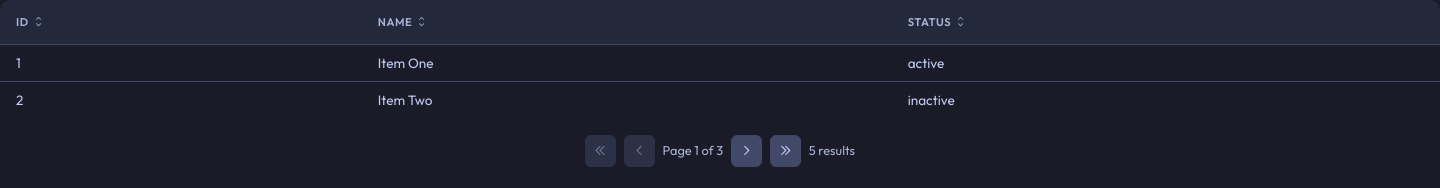
Test: DataTable › pagination › navigates to previous page
Step 1. Click the button named "next" → (746, 151), box [731,135,762,167]
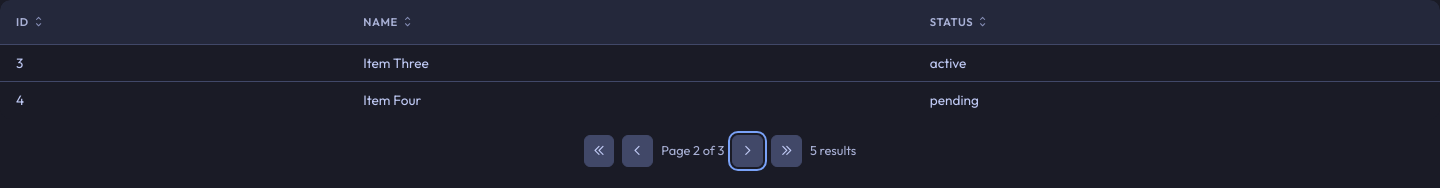
Expected: the text "Item Three" is shown, [347,44,914,82]
Step 2. Click the button named "previous" → (638, 151), box [622,135,653,167]
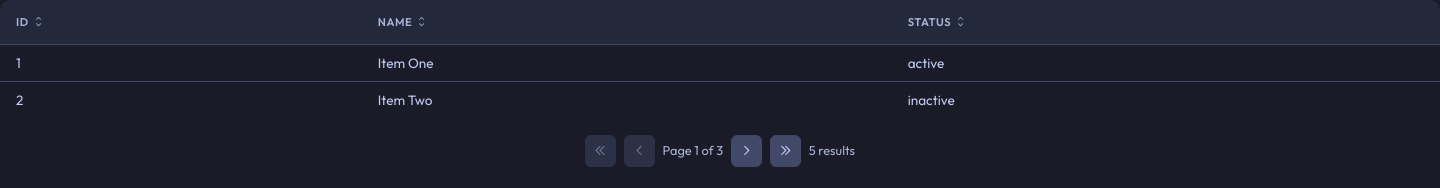
Expected: the text "Item One" is shown, [362,44,892,82]
